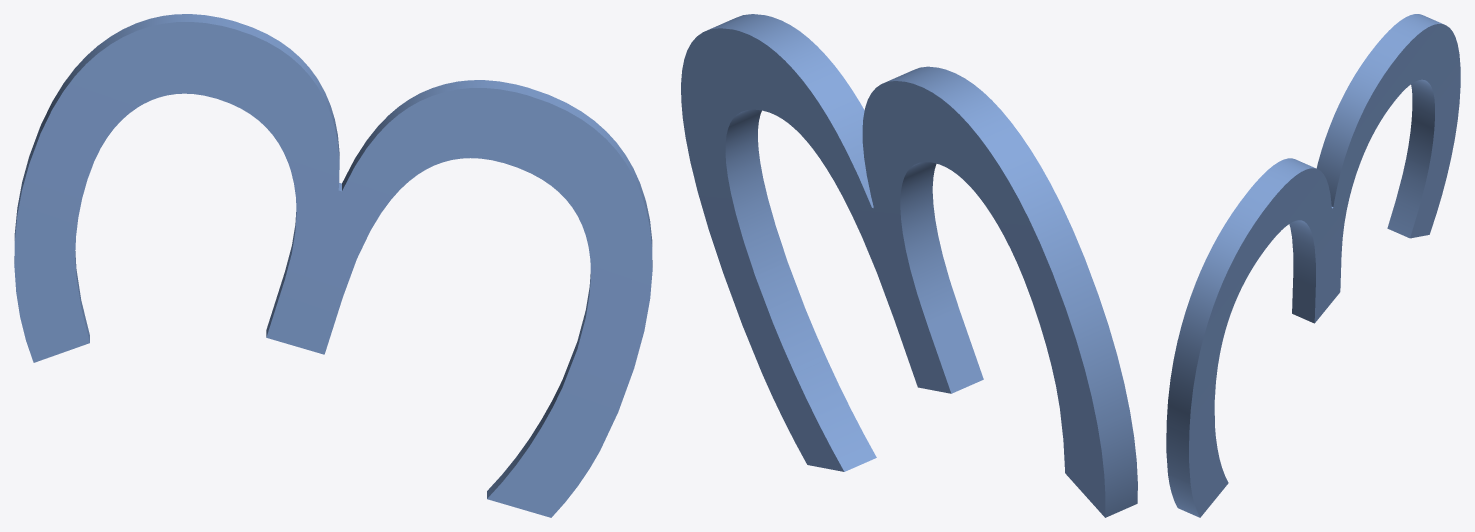
Rendered from New_Number_3.gltf.
3 renders of one model, left to right at view 1: azimuth 30°, elevation 25°; view 2: azimuth 150°, elevation 25°; view 3: azimuth 270°, elevation 25°, orthographic. The views are drawn at different scales.
Parts seen in each view (by area): view 1: Part 57; view 2: Part 57; view 3: Part 57.
Boxes of the visible parts, left/top/right/bottom form: Part 57: left=14, top=14, right=652, bottom=517; Part 57: left=681, top=14, right=1137, bottom=517; Part 57: left=1166, top=14, right=1460, bottom=517.
Size of the model in its own units: 0.00469 by 0.00413 by 0.00281.
